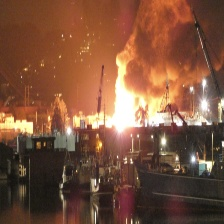fire: (102, 58, 144, 134)
smoke: (101, 1, 224, 85)
